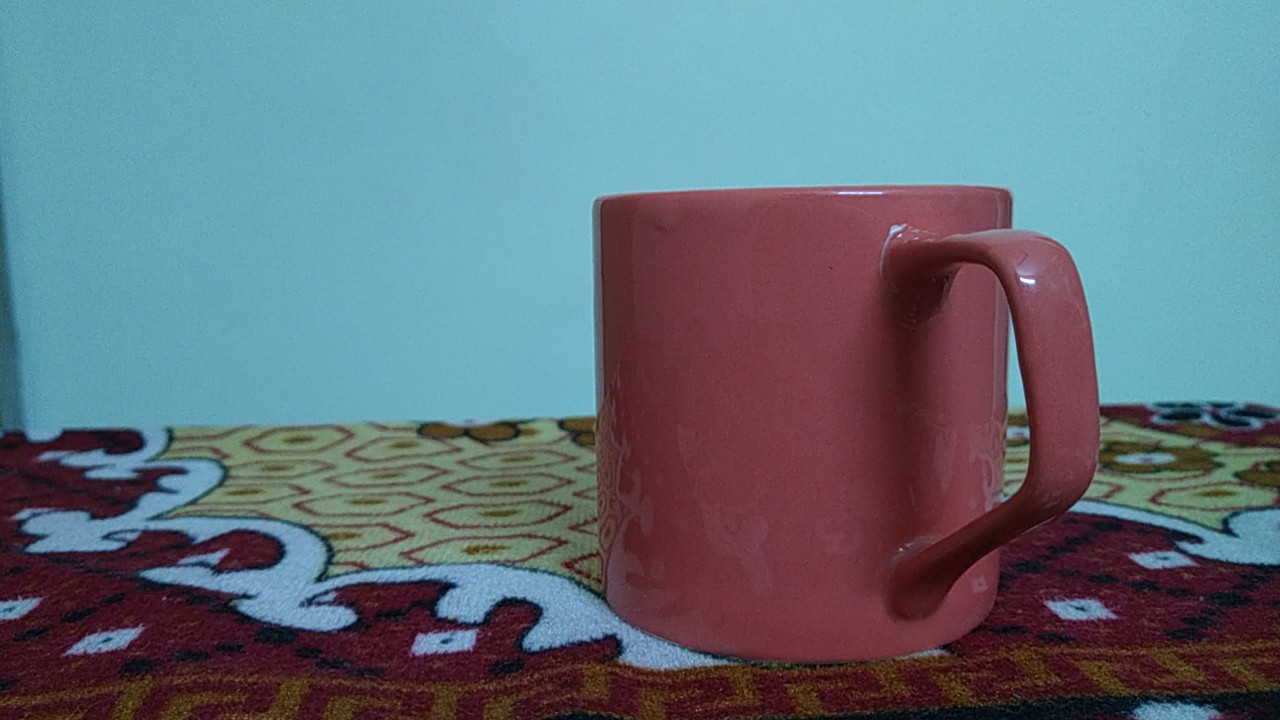cup: (570, 172, 1121, 678)
